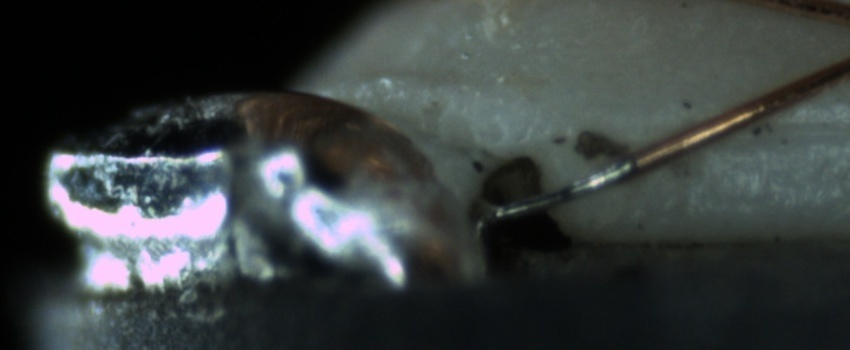DL: (729, 97, 849, 160)
TS: (487, 156, 635, 223)
